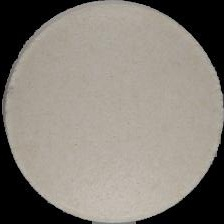55289-261: (0, 0, 224, 224)
